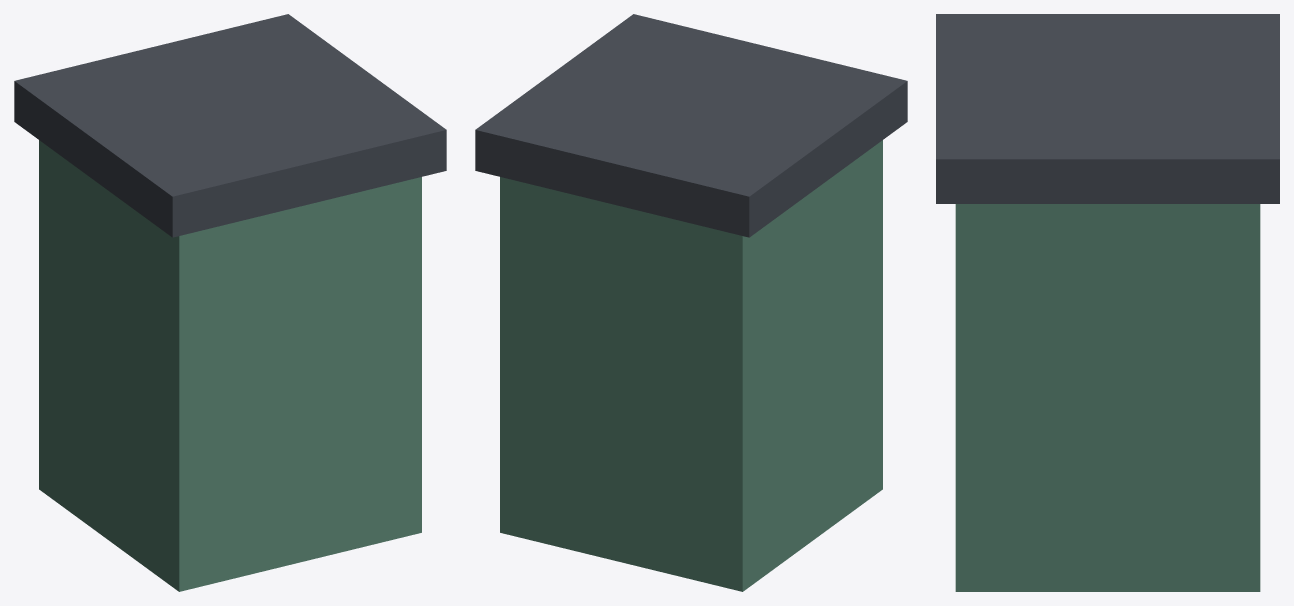
Rendered from ENV_C_Bin.fbx.
3 renders of one model, left to right at view 1: azimuth 30°, elevation 25°; view 2: azimuth 150°, elevation 25°; view 3: azimuth 270°, elevation 25°, orthographic. The views are drawn at different scales.
Visible parts, largest first — view 1: ENV_C_Bin; view 2: ENV_C_Bin; view 3: ENV_C_Bin.
Boxes of the visible parts, x1,y1,x2,y2 form: ENV_C_Bin: [14, 14, 446, 591]; ENV_C_Bin: [475, 14, 907, 591]; ENV_C_Bin: [936, 14, 1279, 591].
Bounding box in the file's own units: 70 × 99 × 70.
